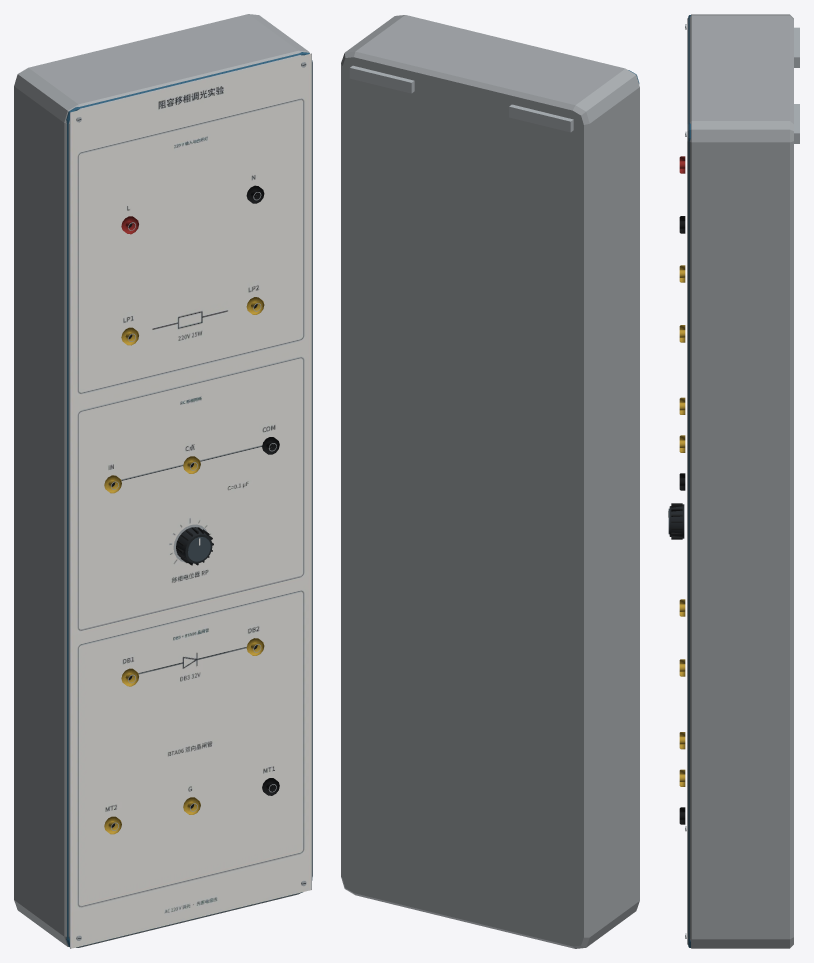
Rendered from module.glb.
3 views of the same model, side by side, from view 1: azimuth 30°, elevation 25°; view 2: azimuth 150°, elevation 25°; view 3: azimuth 270°, elevation 25° (orthographic). The views are drawn at different scales.
Parts seen in each view (by area): view 1: PANEL_silkscreen, STATIC_paint, MOVING_RP_DIM_paint, STATIC_metal; view 2: STATIC_paint, STATIC_metal; view 3: STATIC_paint, MOVING_RP_DIM_paint, STATIC_metal.
Part boxes in pixels (left/top/right/bottom): PANEL_silkscreen: left=70, top=53, right=311, bottom=948; STATIC_paint: left=14, top=14, right=312, bottom=947; MOVING_RP_DIM_paint: left=176, top=527, right=213, bottom=565; STATIC_metal: left=76, top=62, right=306, bottom=940; STATIC_paint: left=341, top=15, right=639, bottom=948; STATIC_metal: left=349, top=65, right=573, bottom=132; STATIC_paint: left=679, top=14, right=793, bottom=948; MOVING_RP_DIM_paint: left=668, top=503, right=684, bottom=539; STATIC_metal: left=685, top=24, right=799, bottom=938.
Size of the model in its own units: 0.145 by 0.47 by 0.0679.
Materials: 4 (1 with a texture image).
